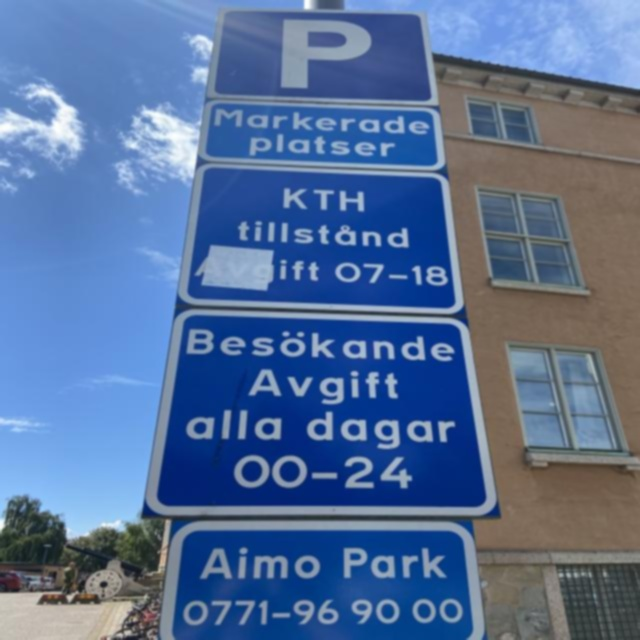P-skylt: (214, 9, 436, 102)
